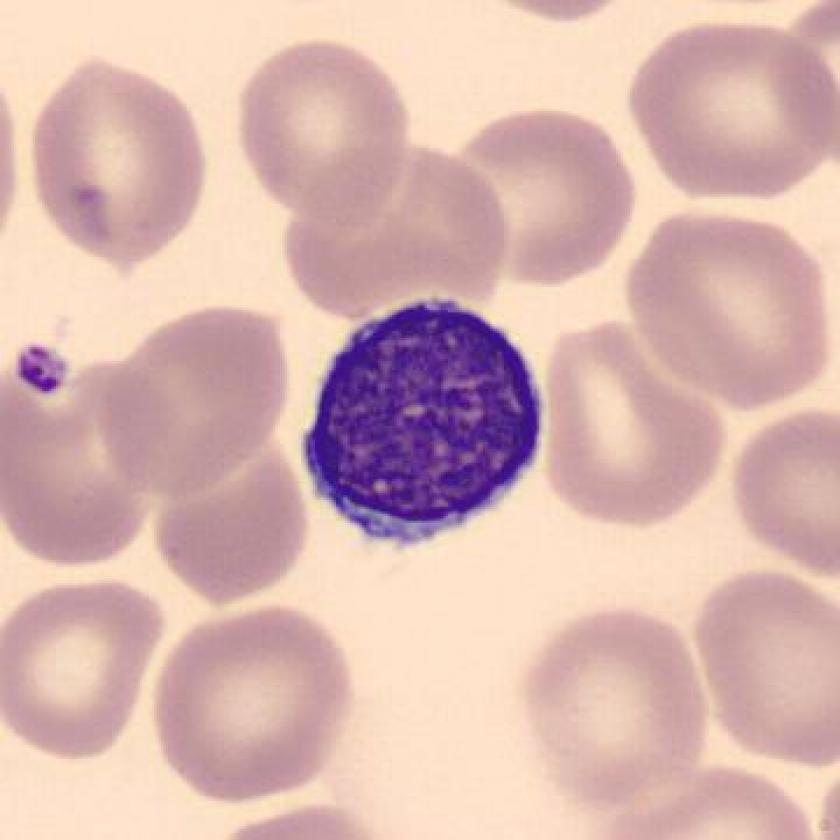lymphocyte: (286, 288, 566, 561)
platelets: (13, 340, 72, 407)
